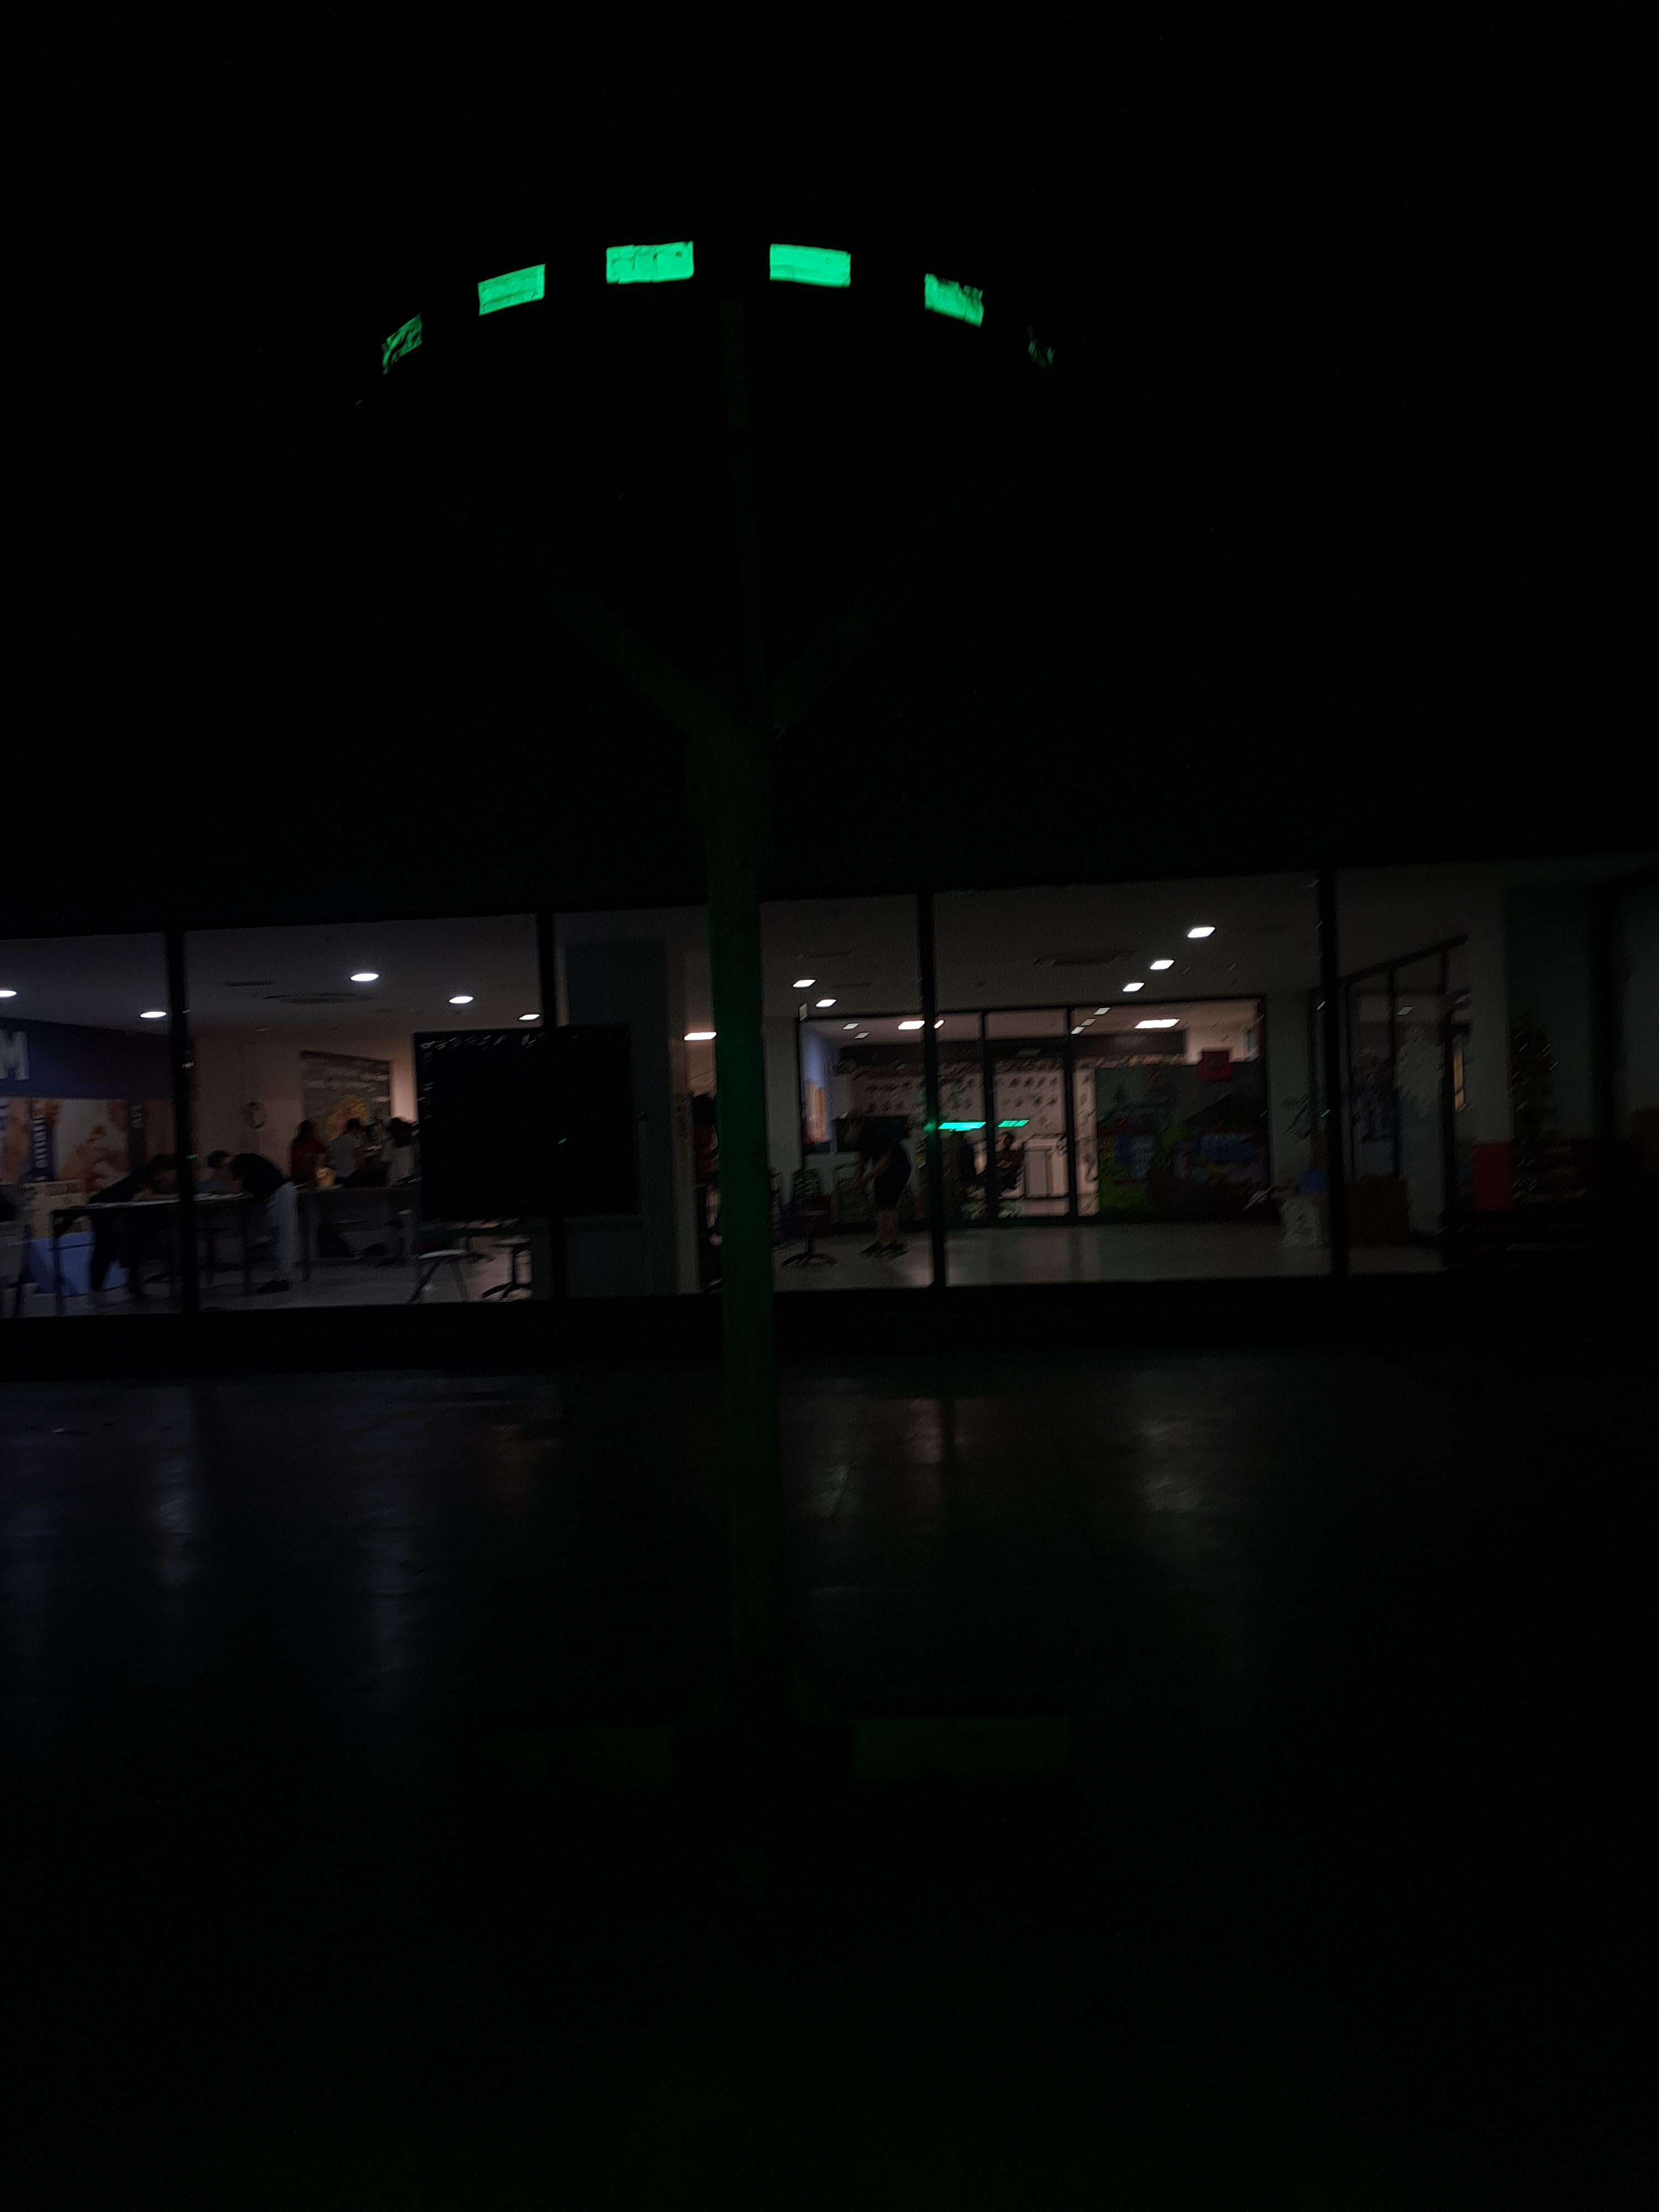hoop: (375, 226, 1065, 380)
